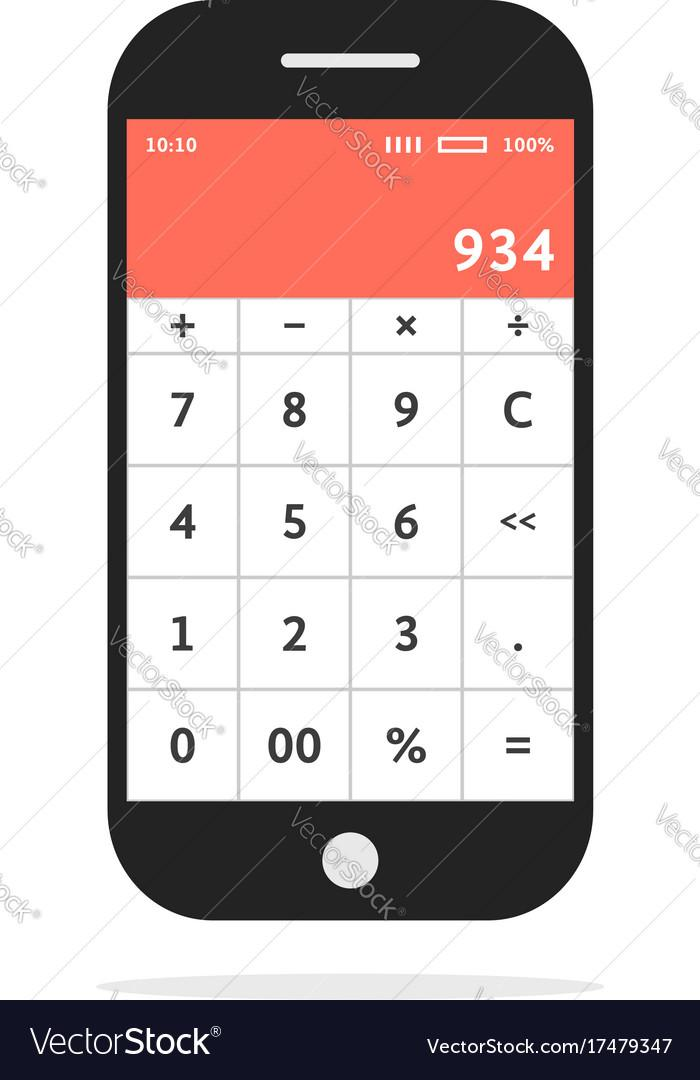Calculator: (108, 212, 583, 825)
